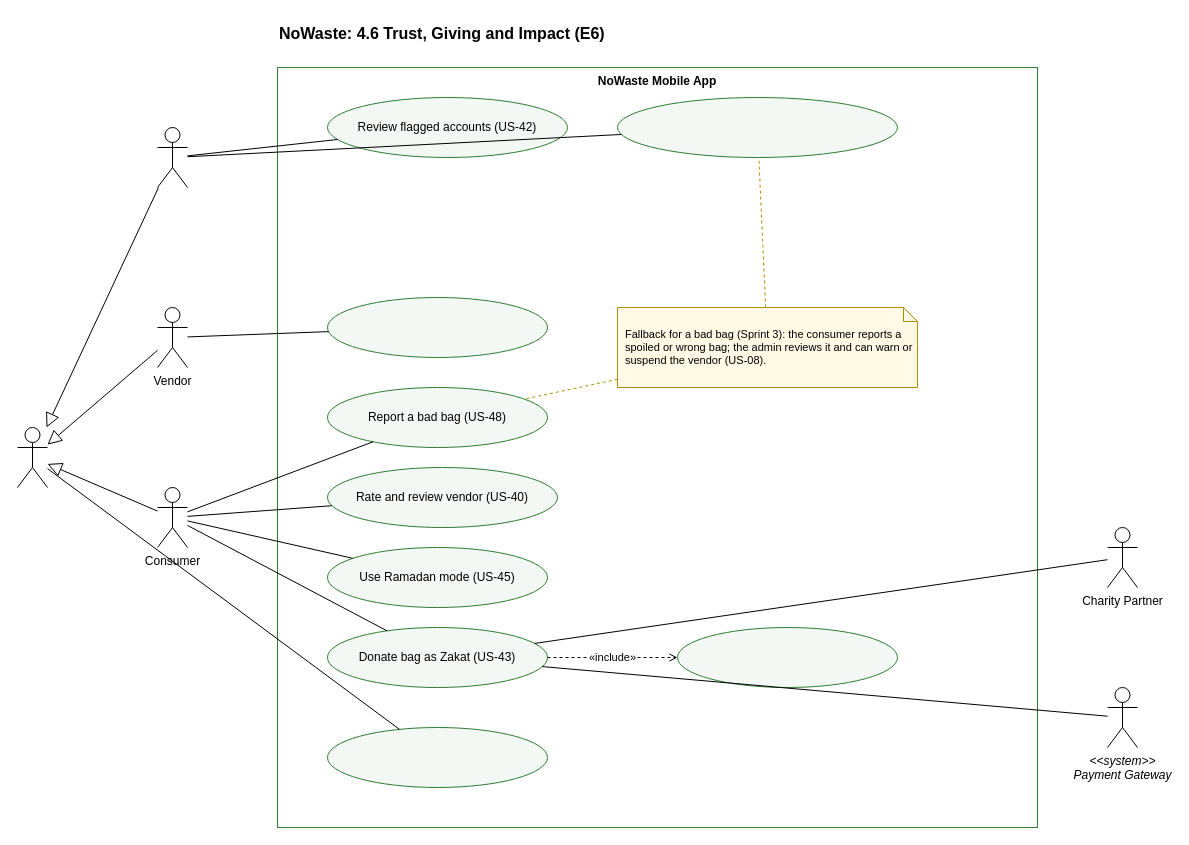
Some shapes in this 1189 by 845 pixel diagram are drawn without their labels. The shapes that lost their labels are listed below. From the top down, each one's centre as x and y in pixels, then its label:
point (757, 127): Review bad-bag reports and warn or suspend the vendor (US-49)
point (172, 157): Admin
point (437, 327): Flag no-show (US-41)
point (32, 457): User
point (787, 657): Get traceable receipt (US-43)
point (437, 757): View impact numbers (US-44)
